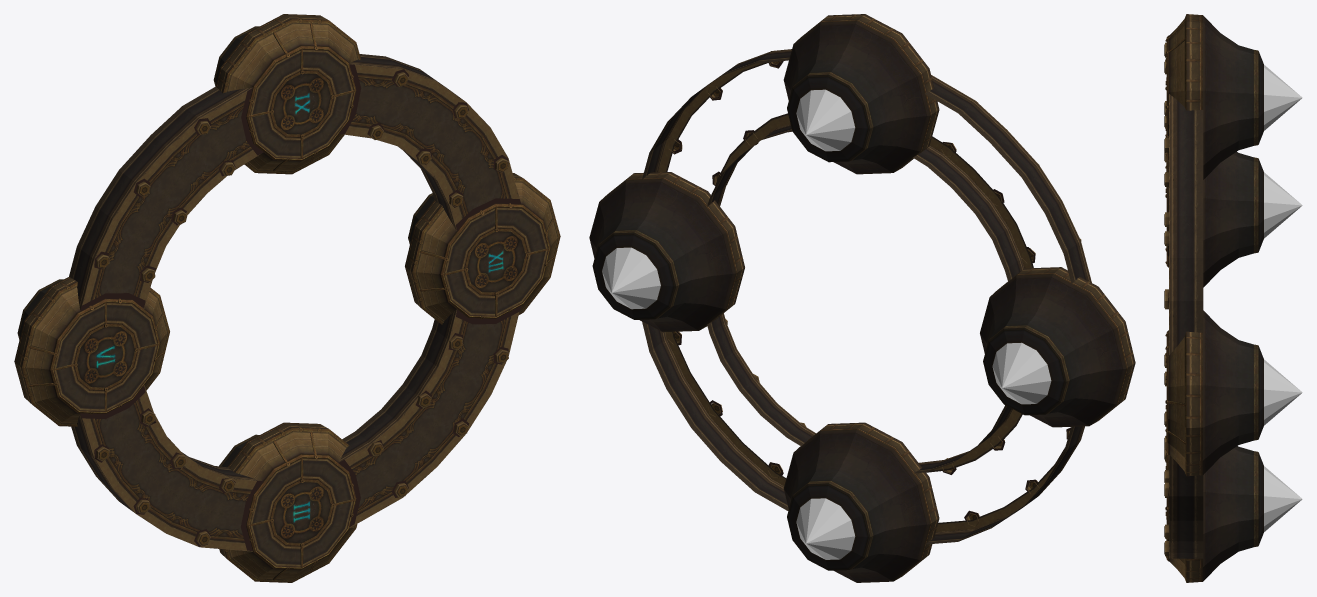
File: huodong_fuben_602_biaopan02.obj
The picture shows the model from 3 angles, left to right: view 1: azimuth 30°, elevation 25°; view 2: azimuth 150°, elevation 25°; view 3: azimuth 270°, elevation 25°; orthographic projection.
Visible parts, largest first — view 1: huodong_fuben_602_biaopan02; view 2: huodong_fuben_602_biaopan02, di1, di2, di4, di3; view 3: huodong_fuben_602_biaopan02, di2, di4, di1, di3.
Boxes of the visible parts, x1,y1,x2,y2 form: huodong_fuben_602_biaopan02: [14, 14, 560, 582]; huodong_fuben_602_biaopan02: [589, 14, 1135, 582]; di1: [796, 498, 855, 559]; di2: [602, 247, 660, 309]; di4: [992, 342, 1051, 404]; di3: [796, 89, 855, 151]; huodong_fuben_602_biaopan02: [1164, 14, 1263, 582]; di2: [1264, 359, 1302, 425]; di4: [1264, 172, 1302, 238]; di1: [1264, 466, 1302, 531]; di3: [1264, 65, 1302, 130].
Bounding box in the file's own units: 13091 × 13091 × 2967.
